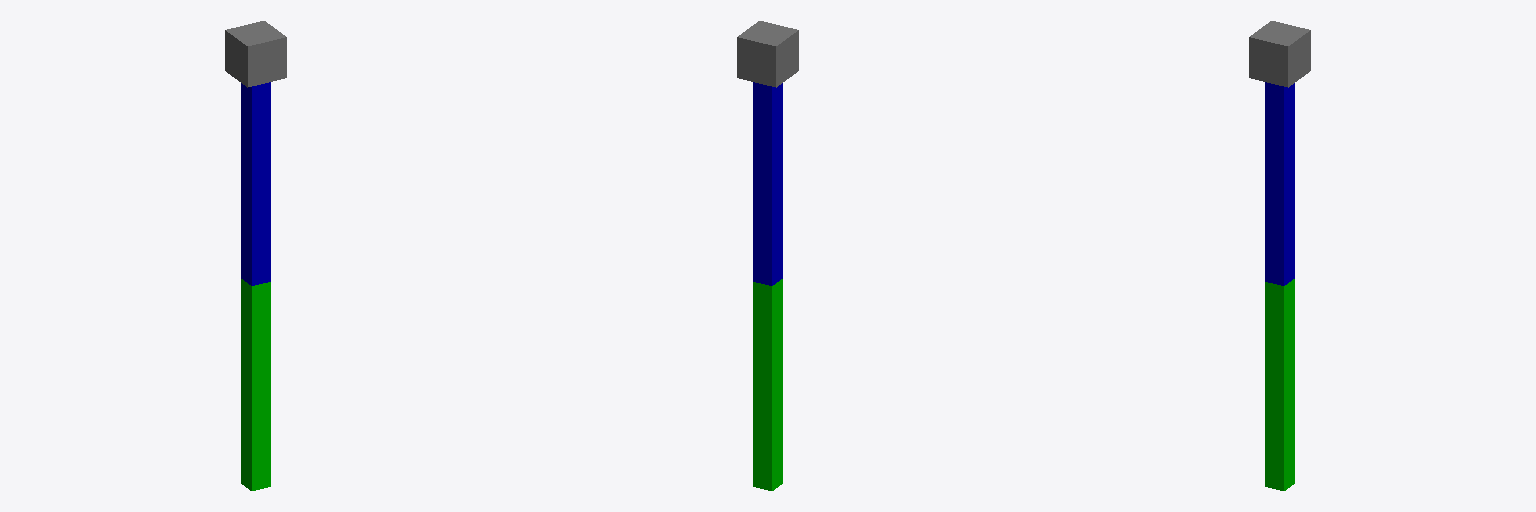
URDF robot description (double_pendulum):
<?xml version="1.0"?>
<robot name="double_pendulum">
  <link name="world"/>

  <link name="base">
    <visual>
      <origin rpy="0 0 0" xyz="0 0 0"/>
      <geometry>
        <box size="0.2 0.2 0.2"/>
      </geometry>
      <material name="gray">
          <color rgba="0.5 0.5 0.5 1.0"/>
      </material>
    </visual>
    <collision>
      <origin rpy="0 0 0" xyz = "0 0 0"/>
      <geometry>
        <box size="0.2 0.2 0.2"/>
      </geometry>
    </collision>
    <inertial>
        <origin rpy="0 0 0" xyz="0 0 0"/>
        <mass value="1"/>
        <inertia ixx="0.002" ixy="0.0" ixz="0" iyy="0.002" iyz="0" izz="0.002"/>
    </inertial>
  </link>

  <link name="link1">
    <visual>
      <origin rpy="0 0 0" xyz="0 0 -0.5"/>
      <geometry>
        <box size="0.1 0.1 1"/>
      </geometry>
      <material name="blue">
          <color rgba="0.0 0.0 0.8 1.0"/>
      </material>
    </visual>
    <collision>
      <origin rpy="0 0 0" xyz="0 0 -0.5"/>
      <geometry>
        <box size="0.1 0.1 1"/>
      </geometry>
    </collision>
    <inertial>
        <origin rpy="0 0 0" xyz="0 0 -0.5"/>
        <mass value="1"/>
        <inertia ixx="0.002" ixy="0.0" ixz="0" iyy="0.002" iyz="0" izz="0.002"/>
    </inertial>
  </link>

  <link name="link2">
    <visual>
      <origin rpy="0 0 0" xyz="0 0 -0.5"/>
      <geometry>
        <box size="0.1 0.1 1"/>
      </geometry>
      <material name="green">
          <color rgba="0.0 0.8 0.0 1.0"/>
      </material>
    </visual>
    <collision>
      <origin rpy="0 0 0" xyz="0 0 -0.5"/>
      <geometry>
        <box size="0.1 0.1 1"/>
      </geometry>
    </collision>
    <inertial>
        <origin rpy="0 0 0" xyz="0 0 -0.5"/>
        <mass value="1"/>
        <inertia ixx="0.002" ixy="0.0" ixz="0" iyy="0.002" iyz="0" izz="0.002"/>
    </inertial>
  </link>

    <joint name="worldToBase" type="fixed">
        <parent link="world"/>
        <child link="base"/>
        <origin xyz="0 0 4"/>
    </joint>

  <joint name="joint1" type="revolute">
    <parent link="base"/>
    <child link="link1"/>
    <origin xyz="0 0 -0.1" rpy="0 0 0" />
    <axis xyz="1 0 0" />
    <dynamics damping="0.1" />
  </joint>

  <joint name="joint2" type="revolute">
    <parent link="link1"/>
    <child link="link2"/>
    <origin xyz="0 0.0 -1.0" rpy="0 0 0" />
    <axis xyz="1 0 0" />
    <dynamics damping="0.1" />
  </joint>

</robot>

--- Render facts (derived) ---
Views: 3 orthographic renders of the robot side by side, from view 1: azimuth 30°, elevation 25°; view 2: azimuth 150°, elevation 25°; view 3: azimuth 330°, elevation 25°.
Model double_pendulum with 4 links and 3 joints (2 revolute, 1 fixed), rooted at world, posed every joint at zero.
Visible links, largest first — view 1: link2, link1, base; view 2: link2, link1, base; view 3: link2, link1, base.
Link boxes in pixels (box(x1,y1,x2,y2)): link2: box(241, 279, 270, 490); link1: box(241, 82, 270, 285); base: box(225, 21, 286, 87); link2: box(753, 279, 782, 490); link1: box(753, 82, 782, 285); base: box(737, 21, 798, 87); link2: box(1265, 279, 1294, 490); link1: box(1265, 82, 1294, 285); base: box(1249, 21, 1310, 87).
Size in the robot's own frame: 0.2 by 0.2 by 2.2 metres.
Geometry: primitives only (box / cylinder / sphere), no mesh files.